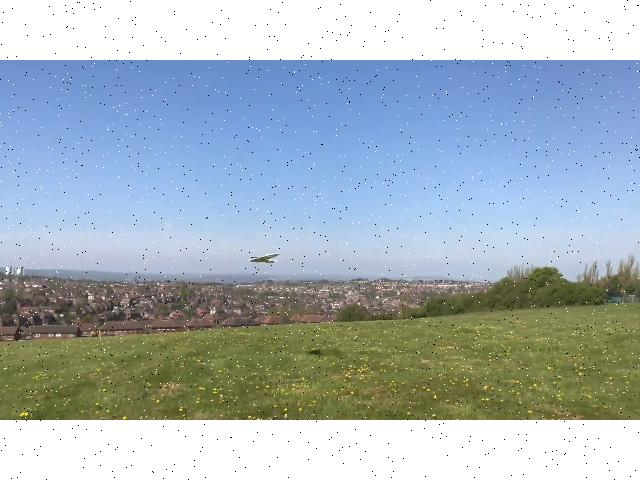Anti-Drone: (238, 248, 288, 270)
